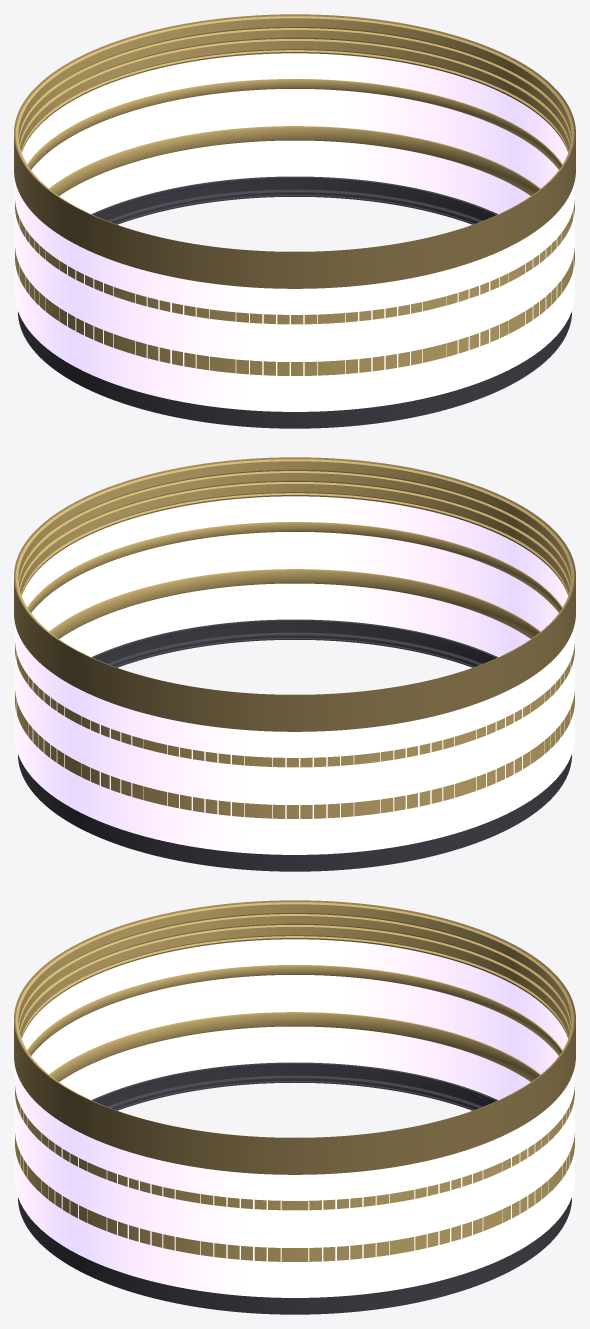
File: SM_Stage_Wall.fbx
The picture shows the model from 3 angles, top to bottom: view 1: azimuth 30°, elevation 25°; view 2: azimuth 150°, elevation 25°; view 3: azimuth 270°, elevation 25°; orthographic projection.
Parts seen in each view (by area): view 1: Wall_Screen, Wall_Fascia, Wall_Plinth, Wall_Band_Mid, Wall_Band_Up; view 2: Wall_Screen, Wall_Fascia, Wall_Plinth, Wall_Band_Mid, Wall_Band_Up; view 3: Wall_Screen, Wall_Fascia, Wall_Plinth, Wall_Band_Mid, Wall_Band_Up.
Boxes of the visible parts, bbox=[...] form: Wall_Screen: bbox=[15, 53, 574, 411]; Wall_Fascia: bbox=[14, 14, 575, 288]; Wall_Plinth: bbox=[18, 176, 571, 428]; Wall_Band_Mid: bbox=[15, 126, 574, 375]; Wall_Band_Up: bbox=[15, 79, 574, 324]; Wall_Screen: bbox=[15, 496, 574, 854]; Wall_Fascia: bbox=[14, 457, 575, 731]; Wall_Plinth: bbox=[18, 619, 571, 871]; Wall_Band_Mid: bbox=[15, 569, 574, 818]; Wall_Band_Up: bbox=[15, 522, 574, 767]; Wall_Screen: bbox=[15, 939, 574, 1297]; Wall_Fascia: bbox=[14, 900, 575, 1174]; Wall_Plinth: bbox=[18, 1062, 571, 1314]; Wall_Band_Mid: bbox=[15, 1012, 574, 1261]; Wall_Band_Up: bbox=[15, 965, 574, 1210].
Bounding box in the file's own units: 2268 × 795 × 2268.
